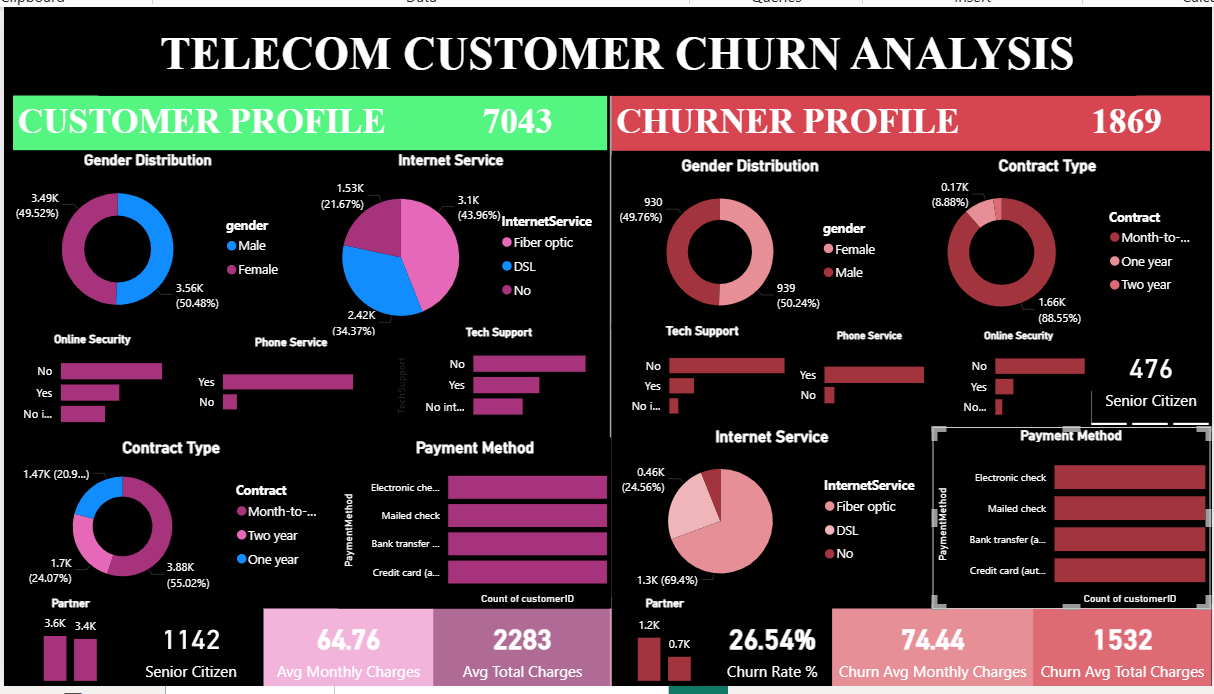

What the dashboard file says about the page in this screenshot:
{"tool":"powerbi","page":{"name":"DASHBOARD","canvas":[1280,720],"ordinal":0},"visuals":[{"type":"textbox","box":[9.7,93.9,629.9,58.3],"z":0},{"type":"textbox","box":[644.2,93.8,634.7,58.9],"z":1000},{"type":"card","fields":{"Values":["WA_Fn-UseC_-Telco-Customer-Chur.Churn Avg Total Charges"]},"box":[1091.2,637.8,189.3,82.7],"z":2000},{"type":"shape","box":[548.8,93.8,189.3,626.7],"z":3000},{"type":"card","fields":{"Values":["WA_Fn-UseC_-Telco-Customer-Chur.Churn Avg Monthly Charges"]},"box":[878,637.8,213.1,82.7],"z":4000},{"type":"card","fields":{"Values":["WA_Fn-UseC_-Telco-Customer-Chur.Avg Total Charges"]},"box":[454.9,637.8,189.3,82.7],"z":5000},{"type":"card","fields":{"Values":["WA_Fn-UseC_-Telco-Customer-Chur.Avg Monthly Charges"]},"box":[275.2,637.8,179.7,82.7],"z":6000},{"type":"donutChart","title":"Gender Distribution","fields":{"Category":["WA_Fn-UseC_-Telco-Customer-Chur.gender"],"Y":["CountNonNull(WA_Fn-UseC_-Telco-Customer-Chur.customerID)"]},"box":[0,152.7,305.4,189.3],"z":7000},{"type":"donutChart","title":"Contract Type","fields":{"Category":["WA_Fn-UseC_-Telco-Customer-Chur.Contract"],"Y":["CountNonNull(WA_Fn-UseC_-Telco-Customer-Chur.customerID)"]},"box":[0,456.5,354.7,168.6],"z":8000},{"type":"pieChart","title":" Internet Service","fields":{"Y":["CountNonNull(WA_Fn-UseC_-Telco-Customer-Chur.customerID)"],"Category":["WA_Fn-UseC_-Telco-Customer-Chur.InternetService"]},"box":[308.6,152.7,330.8,206.8],"z":9000},{"type":"hundredPercentStackedBarChart","title":" Payment Method","fields":{"Category":["WA_Fn-UseC_-Telco-Customer-Chur.PaymentMethod"],"Y":["CountNonNull(WA_Fn-UseC_-Telco-Customer-Chur.customerID)"]},"box":[354.7,456.5,289.5,181.3],"z":10000},{"type":"clusteredBarChart","title":" Online Security","fields":{"Category":["WA_Fn-UseC_-Telco-Customer-Chur.OnlineSecurity"],"Y":["CountNonNull(WA_Fn-UseC_-Telco-Customer-Chur.OnlineSecurity)"]},"box":[0,345.2,187.7,109.8],"z":11000},{"type":"clusteredBarChart","title":" Phone Service","fields":{"Category":["WA_Fn-UseC_-Telco-Customer-Chur.PhoneService"],"Y":["CountNonNull(WA_Fn-UseC_-Telco-Customer-Chur.PhoneService)"]},"box":[198.8,348.3,211.6,103.4],"z":12000},{"type":"clusteredBarChart","title":"Tech Support","fields":{"Category":["WA_Fn-UseC_-Telco-Customer-Chur.TechSupport"],"Y":["CountNonNull(WA_Fn-UseC_-Telco-Customer-Chur.TechSupport)"]},"box":[410.4,337.2,229,109.8],"z":13000},{"type":"card","fields":{"Values":["Sum(WA_Fn-UseC_-Telco-Customer-Chur.SeniorCitizen)"]},"box":[141.6,637.8,112.9,82.7],"z":14000},{"type":"clusteredColumnChart","title":" Partner","fields":{"Category":["WA_Fn-UseC_-Telco-Customer-Chur.Partner"],"Y":["CountNonNull(WA_Fn-UseC_-Telco-Customer-Chur.Partner)"]},"box":[20.7,625.1,100.2,95.4],"z":15000},{"type":"donutChart","title":"Gender Distribution","fields":{"Category":["WA_Fn-UseC_-Telco-Customer-Chur.gender"],"Y":["CountNonNull(WA_Fn-UseC_-Telco-Customer-Chur.gender)"]},"box":[644.2,157.5,294.3,184.5],"z":16000},{"type":"pieChart","title":" Internet Service","fields":{"Category":["WA_Fn-UseC_-Telco-Customer-Chur.InternetService"],"Y":["CountNonNull(WA_Fn-UseC_-Telco-Customer-Chur.InternetService)"]},"box":[644.2,445.4,340.4,179.7],"z":17000},{"type":"clusteredBarChart","title":" Tech Support","fields":{"Category":["WA_Fn-UseC_-Telco-Customer-Chur.TechSupport"],"Y":["CountNonNull(WA_Fn-UseC_-Telco-Customer-Chur.TechSupport)"]},"box":[644.4,336.4,192.8,109.6],"z":18000},{"type":"clusteredBarChart","title":" Phone Service","fields":{"Category":["WA_Fn-UseC_-Telco-Customer-Chur.PhoneService"],"Y":["CountNonNull(WA_Fn-UseC_-Telco-Customer-Chur.PhoneService)"]},"box":[836.7,342,162.2,103.4],"z":19000},{"type":"clusteredBarChart","title":" Online Security","fields":{"Category":["WA_Fn-UseC_-Telco-Customer-Chur.OnlineSecurity"],"Y":["CountNonNull(WA_Fn-UseC_-Telco-Customer-Chur.OnlineSecurity)"]},"box":[998.9,342,154.3,105],"z":20000},{"type":"donutChart","title":"Contract Type","fields":{"Category":["WA_Fn-UseC_-Telco-Customer-Chur.Contract"],"Y":["CountNonNull(WA_Fn-UseC_-Telco-Customer-Chur.customerID)"]},"box":[939.2,156.9,336.4,185.2],"z":21000},{"type":"hundredPercentStackedBarChart","title":" Payment Method","fields":{"Category":["WA_Fn-UseC_-Telco-Customer-Chur.PaymentMethod"],"Y":["CountNonNull(WA_Fn-UseC_-Telco-Customer-Chur.customerID)"]},"box":[984.6,445.4,294.3,192.5],"z":22000},{"type":"card","fields":{"Values":["Sum(WA_Fn-UseC_-Telco-Customer-Chur.SeniorCitizen)"]},"box":[1153.2,343.6,125.7,97],"z":23000},{"type":"clusteredColumnChart","title":"Partner","fields":{"Category":["WA_Fn-UseC_-Telco-Customer-Chur.Partner"],"Y":["CountNonNull(WA_Fn-UseC_-Telco-Customer-Chur.Partner)"]},"box":[650.6,625.1,100.2,95.4],"z":24000},{"type":"textbox","box":[100.2,17.5,1100.7,76.3],"z":25000},{"type":"card","fields":{"Values":["WA_Fn-UseC_-Telco-Customer-Chur.Churn Rate %"]},"box":[750.8,637.8,127.2,82.7],"z":25001}]}

Visuals, with their boxes on the page's 1280x720 design canvas (x1, y1, x2, y2). These are canvas units, not pixel positions in the 1214x694 screenshot, which may show the page scaled, cropped or inside an application window:
textbox: {"left": 10, "top": 94, "right": 640, "bottom": 152}
textbox: {"left": 644, "top": 94, "right": 1279, "bottom": 153}
card - WA_Fn-UseC_-Telco-Customer-Chur.Churn Avg Total Charges: {"left": 1091, "top": 638, "right": 1280, "bottom": 720}
shape: {"left": 549, "top": 94, "right": 738, "bottom": 720}
card - WA_Fn-UseC_-Telco-Customer-Chur.Churn Avg Monthly Charges: {"left": 878, "top": 638, "right": 1091, "bottom": 720}
card - WA_Fn-UseC_-Telco-Customer-Chur.Avg Total Charges: {"left": 455, "top": 638, "right": 644, "bottom": 720}
card - WA_Fn-UseC_-Telco-Customer-Chur.Avg Monthly Charges: {"left": 275, "top": 638, "right": 455, "bottom": 720}
"Gender Distribution" donutChart: {"left": 0, "top": 153, "right": 305, "bottom": 342}
"Contract Type" donutChart: {"left": 0, "top": 456, "right": 355, "bottom": 625}
" Internet Service" pieChart: {"left": 309, "top": 153, "right": 639, "bottom": 360}
" Payment Method" hundredPercentStackedBarChart: {"left": 355, "top": 456, "right": 644, "bottom": 638}
" Online Security" clusteredBarChart: {"left": 0, "top": 345, "right": 188, "bottom": 455}
" Phone Service" clusteredBarChart: {"left": 199, "top": 348, "right": 410, "bottom": 452}
"Tech Support" clusteredBarChart: {"left": 410, "top": 337, "right": 639, "bottom": 447}
card - Sum(WA_Fn-UseC_-Telco-Customer-Chur.SeniorCitizen): {"left": 142, "top": 638, "right": 254, "bottom": 720}
" Partner" clusteredColumnChart: {"left": 21, "top": 625, "right": 121, "bottom": 720}
"Gender Distribution" donutChart: {"left": 644, "top": 158, "right": 938, "bottom": 342}
" Internet Service" pieChart: {"left": 644, "top": 445, "right": 985, "bottom": 625}
" Tech Support" clusteredBarChart: {"left": 644, "top": 336, "right": 837, "bottom": 446}
" Phone Service" clusteredBarChart: {"left": 837, "top": 342, "right": 999, "bottom": 445}
" Online Security" clusteredBarChart: {"left": 999, "top": 342, "right": 1153, "bottom": 447}
"Contract Type" donutChart: {"left": 939, "top": 157, "right": 1276, "bottom": 342}
" Payment Method" hundredPercentStackedBarChart: {"left": 985, "top": 445, "right": 1279, "bottom": 638}
card - Sum(WA_Fn-UseC_-Telco-Customer-Chur.SeniorCitizen): {"left": 1153, "top": 344, "right": 1279, "bottom": 441}
"Partner" clusteredColumnChart: {"left": 651, "top": 625, "right": 751, "bottom": 720}
textbox: {"left": 100, "top": 18, "right": 1201, "bottom": 94}
card - WA_Fn-UseC_-Telco-Customer-Chur.Churn Rate %: {"left": 751, "top": 638, "right": 878, "bottom": 720}
